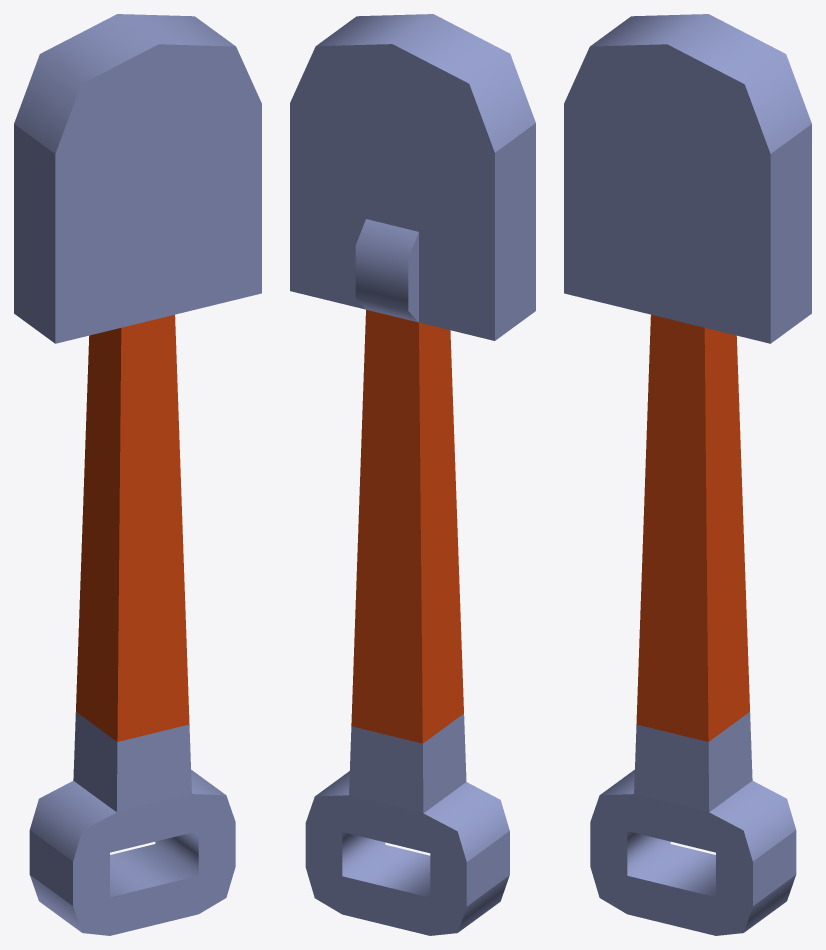
The model's file is toolShovel.obj.
3 views of the same model, side by side, from view 1: azimuth 30°, elevation 25°; view 2: azimuth 150°, elevation 25°; view 3: azimuth 330°, elevation 25° (orthographic).
Visible parts, largest first — view 1: toolShovel; view 2: toolShovel; view 3: toolShovel.
Part boxes in pixels (<box>): toolShovel: <box>14,14,261,935</box>; toolShovel: <box>290,14,535,935</box>; toolShovel: <box>564,14,811,935</box>.
Size of the model in its own units: 0.0709 by 0.29 by 0.0309.
